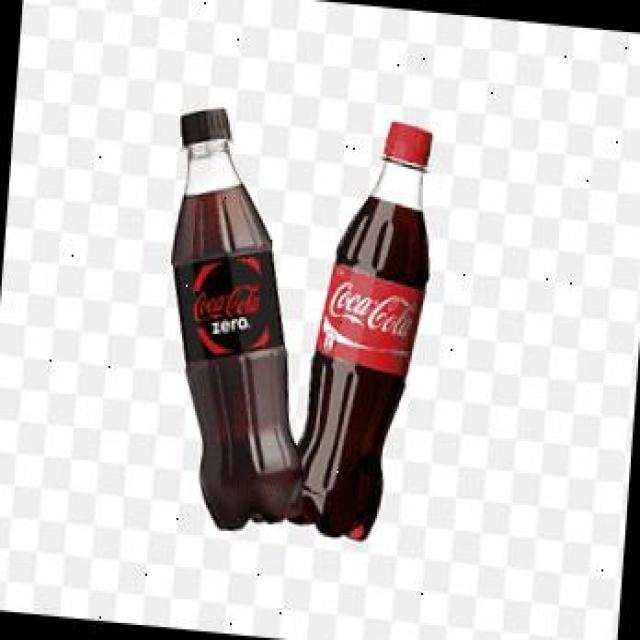coca-cola: (142, 101, 331, 537), (296, 103, 447, 554)
